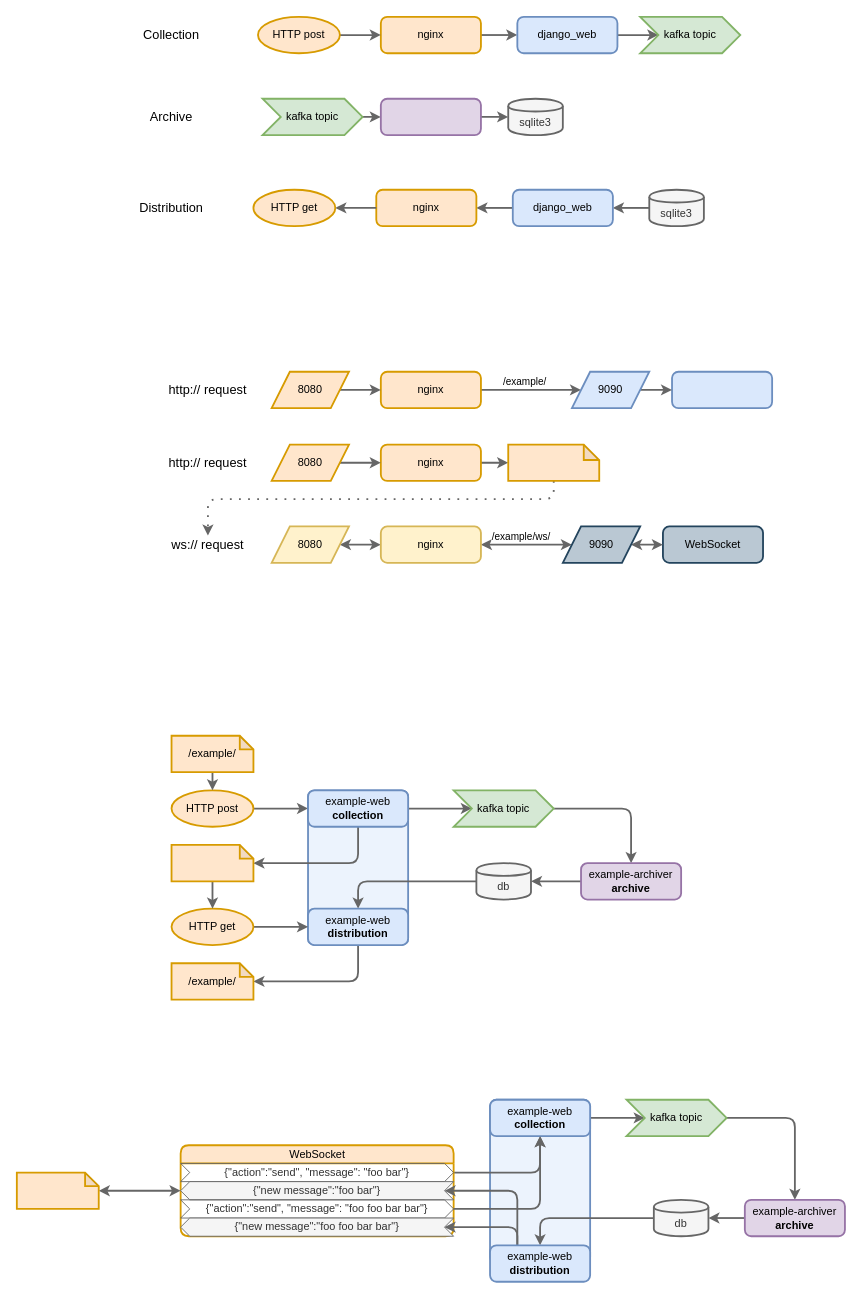
The diagram is 861 pixels wide and 1298 high, and some of its shapes have lost their labels. The shapes that lost their labels are listed below. From the top down, each one's centre as x and y in pixels, then its label:
At point (430, 116): "django_archiver".
At point (722, 389): "HTTP".
At point (553, 462): "Static Page".
At point (212, 863): "<redirect>".
At point (57, 1190): "/ws-example/".
